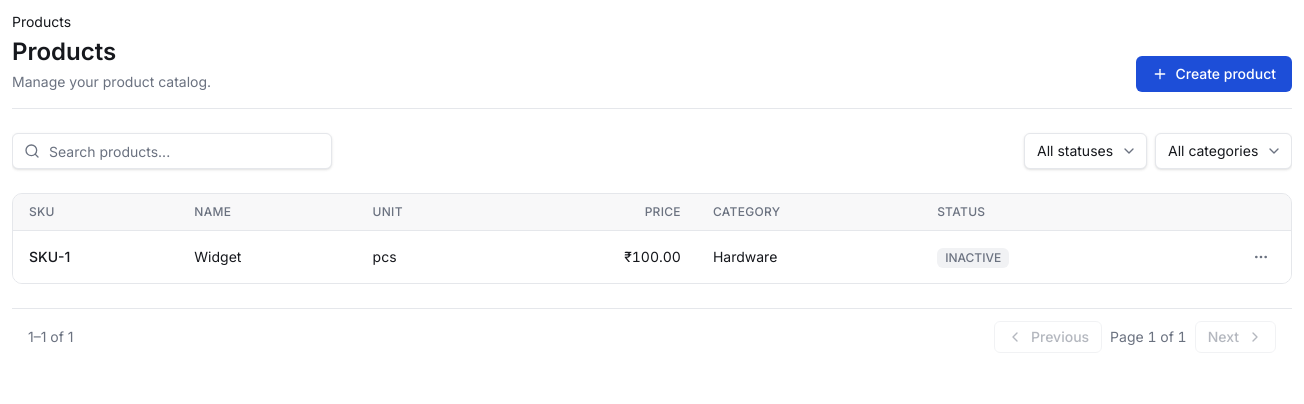
Test: ProductsListPage › deactivate / reactivate › shows Reactivate instead of Deactivate for an inactive product
The image size is (1304, 404).
Expected: the text "Widget" is shown, [178,231,357,283]
Step 1. Click the button named "Actions for Widget" → coordinates (1261, 257), box [1247,243,1275,271]
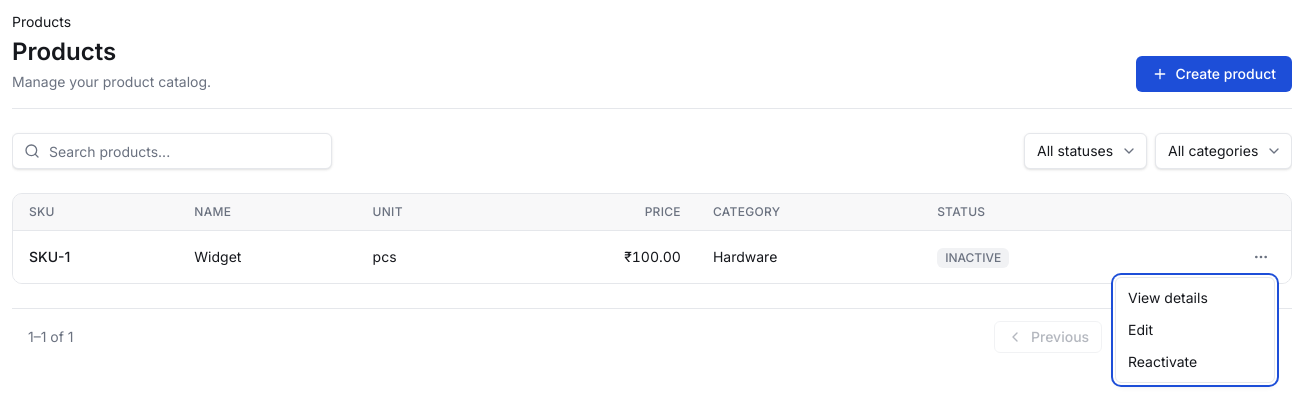
Expected: the menu item "Reactivate" is shown, [1128,353,1197,370]
